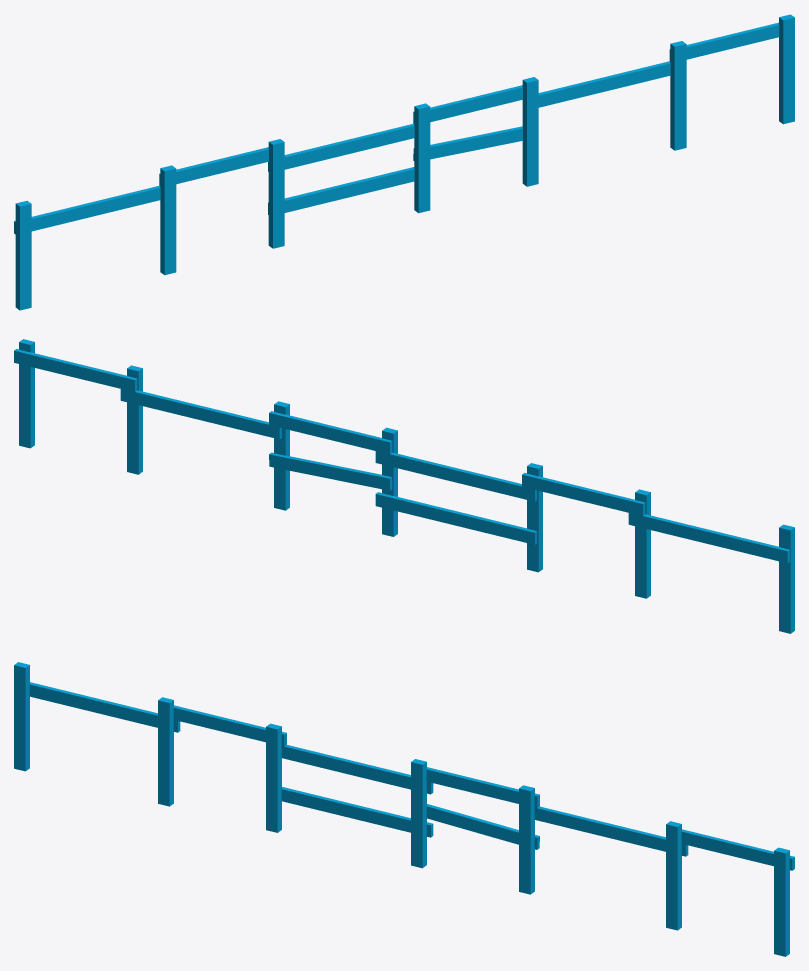
Rendered from House_Platform_Fence_02_Lod0.fbx.
3 renders of one model, top to bottom at view 1: azimuth 30°, elevation 25°; view 2: azimuth 150°, elevation 25°; view 3: azimuth 330°, elevation 25°, orthographic.
Visible parts, largest first — view 1: House_Platform_Fence_02_Lod0; view 2: House_Platform_Fence_02_Lod0; view 3: House_Platform_Fence_02_Lod0.
Boxes of the visible parts, x1,y1,x2,y2 form: House_Platform_Fence_02_Lod0: [14, 14, 794, 310]; House_Platform_Fence_02_Lod0: [14, 339, 794, 633]; House_Platform_Fence_02_Lod0: [14, 662, 794, 956].
Bounding box in the file's own units: 895 × 114 × 13.13.
